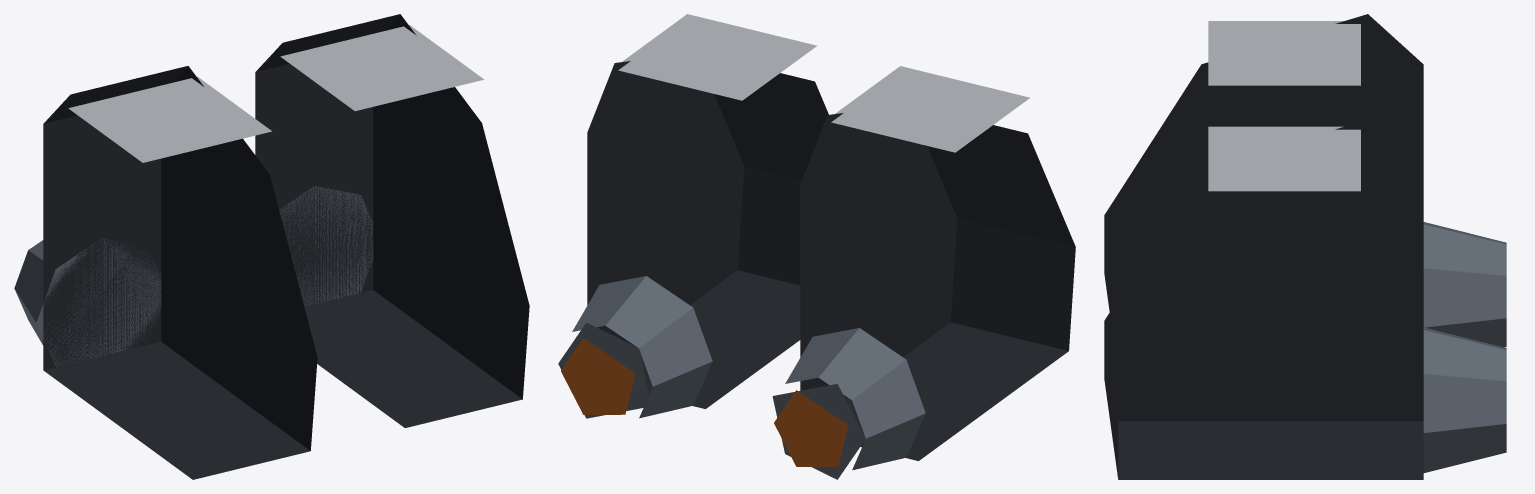
Rendered from rocket-boots.lod.glb.
3 views of the same model, side by side, from view 1: azimuth 30°, elevation 25°; view 2: azimuth 150°, elevation 25°; view 3: azimuth 270°, elevation 25° (orthographic).
Parts seen in each view (by area): view 1: m; view 2: m; view 3: m.
Part boxes in pixels (x1,y1,x2,y2): m: (14,14,529,479); m: (558,14,1075,479); m: (1104,14,1506,479).
Size of the model in its own units: 0.22 by 0.1929 by 0.226.
